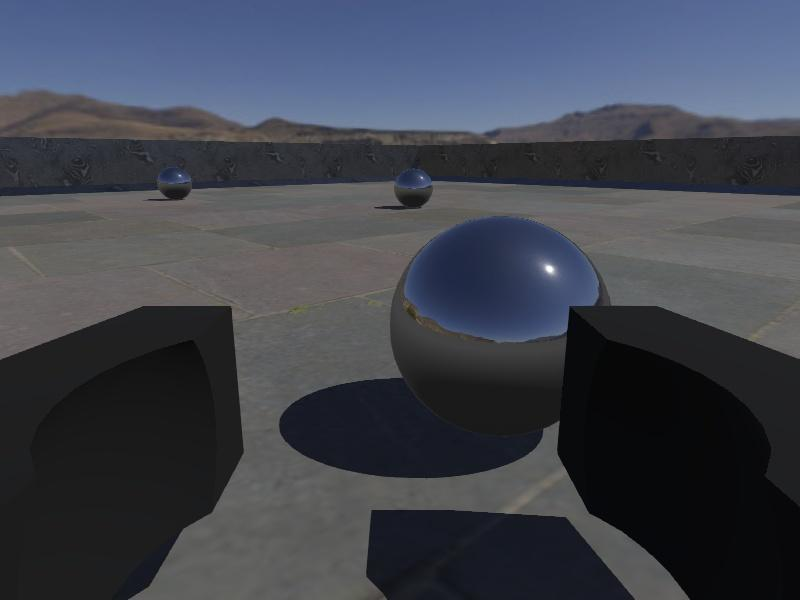steel ball: (393, 167, 433, 208), (156, 165, 194, 202)
